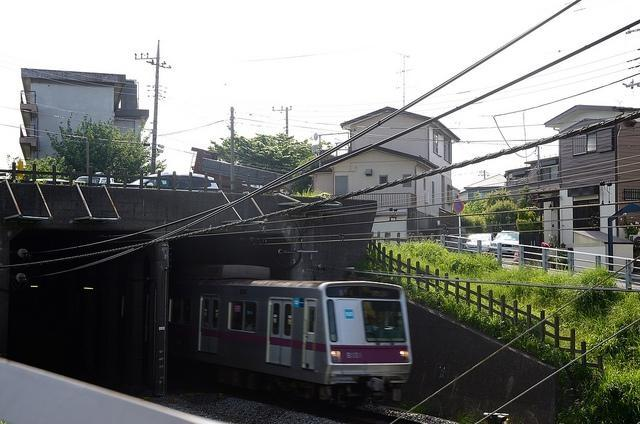car: (130, 171, 220, 190), (490, 231, 524, 254), (466, 234, 496, 252), (76, 177, 105, 184)
